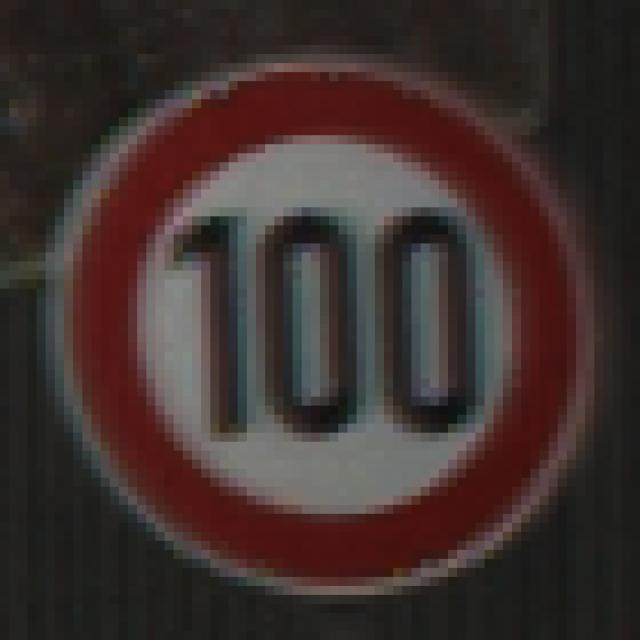speed limit 100: (31, 24, 607, 614)
